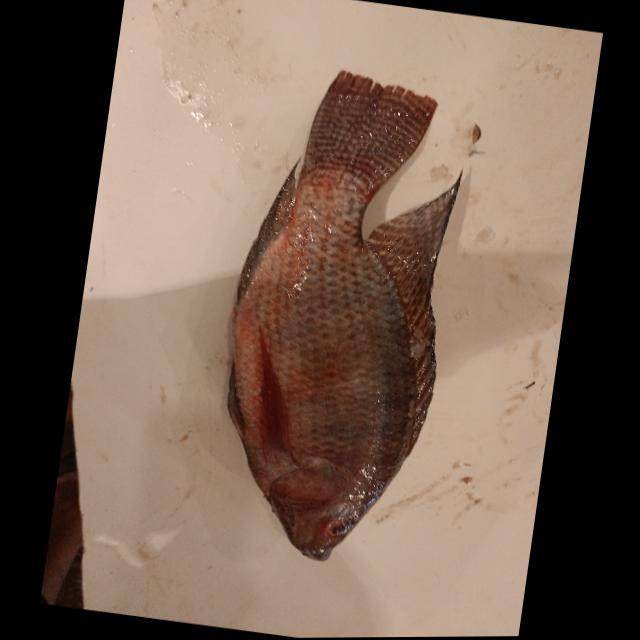Tilapia: (198, 56, 476, 574)
